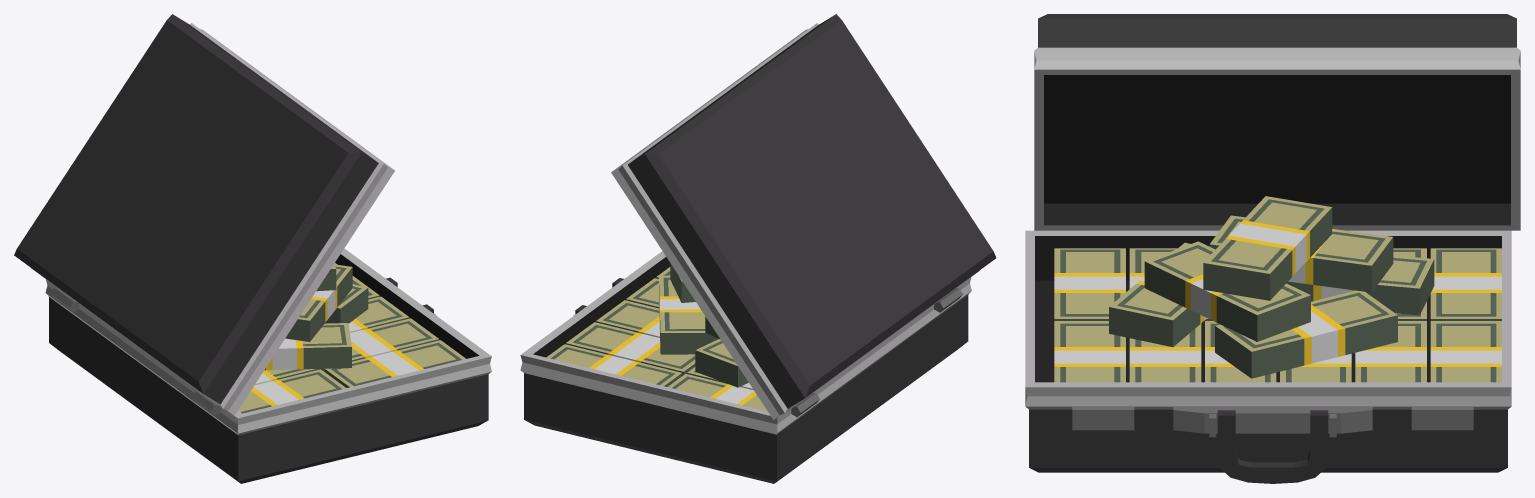
File: SM_Suitcase_02.glb
The picture shows the model from 3 angles, left to right: view 1: azimuth 30°, elevation 25°; view 2: azimuth 150°, elevation 25°; view 3: azimuth 270°, elevation 25°; orthographic projection. The views are drawn at different scales.
Parts seen in each view (by area): view 1: SM_Suitcase_02; view 2: SM_Suitcase_02; view 3: SM_Suitcase_02.
Part boxes in pixels (<box>): SM_Suitcase_02: <box>14,14,491,483</box>; SM_Suitcase_02: <box>520,14,996,483</box>; SM_Suitcase_02: <box>1025,14,1520,483</box>.
Size of the model in its own units: 0.629 by 0.6 by 0.705.
1 material, 1 textured.
